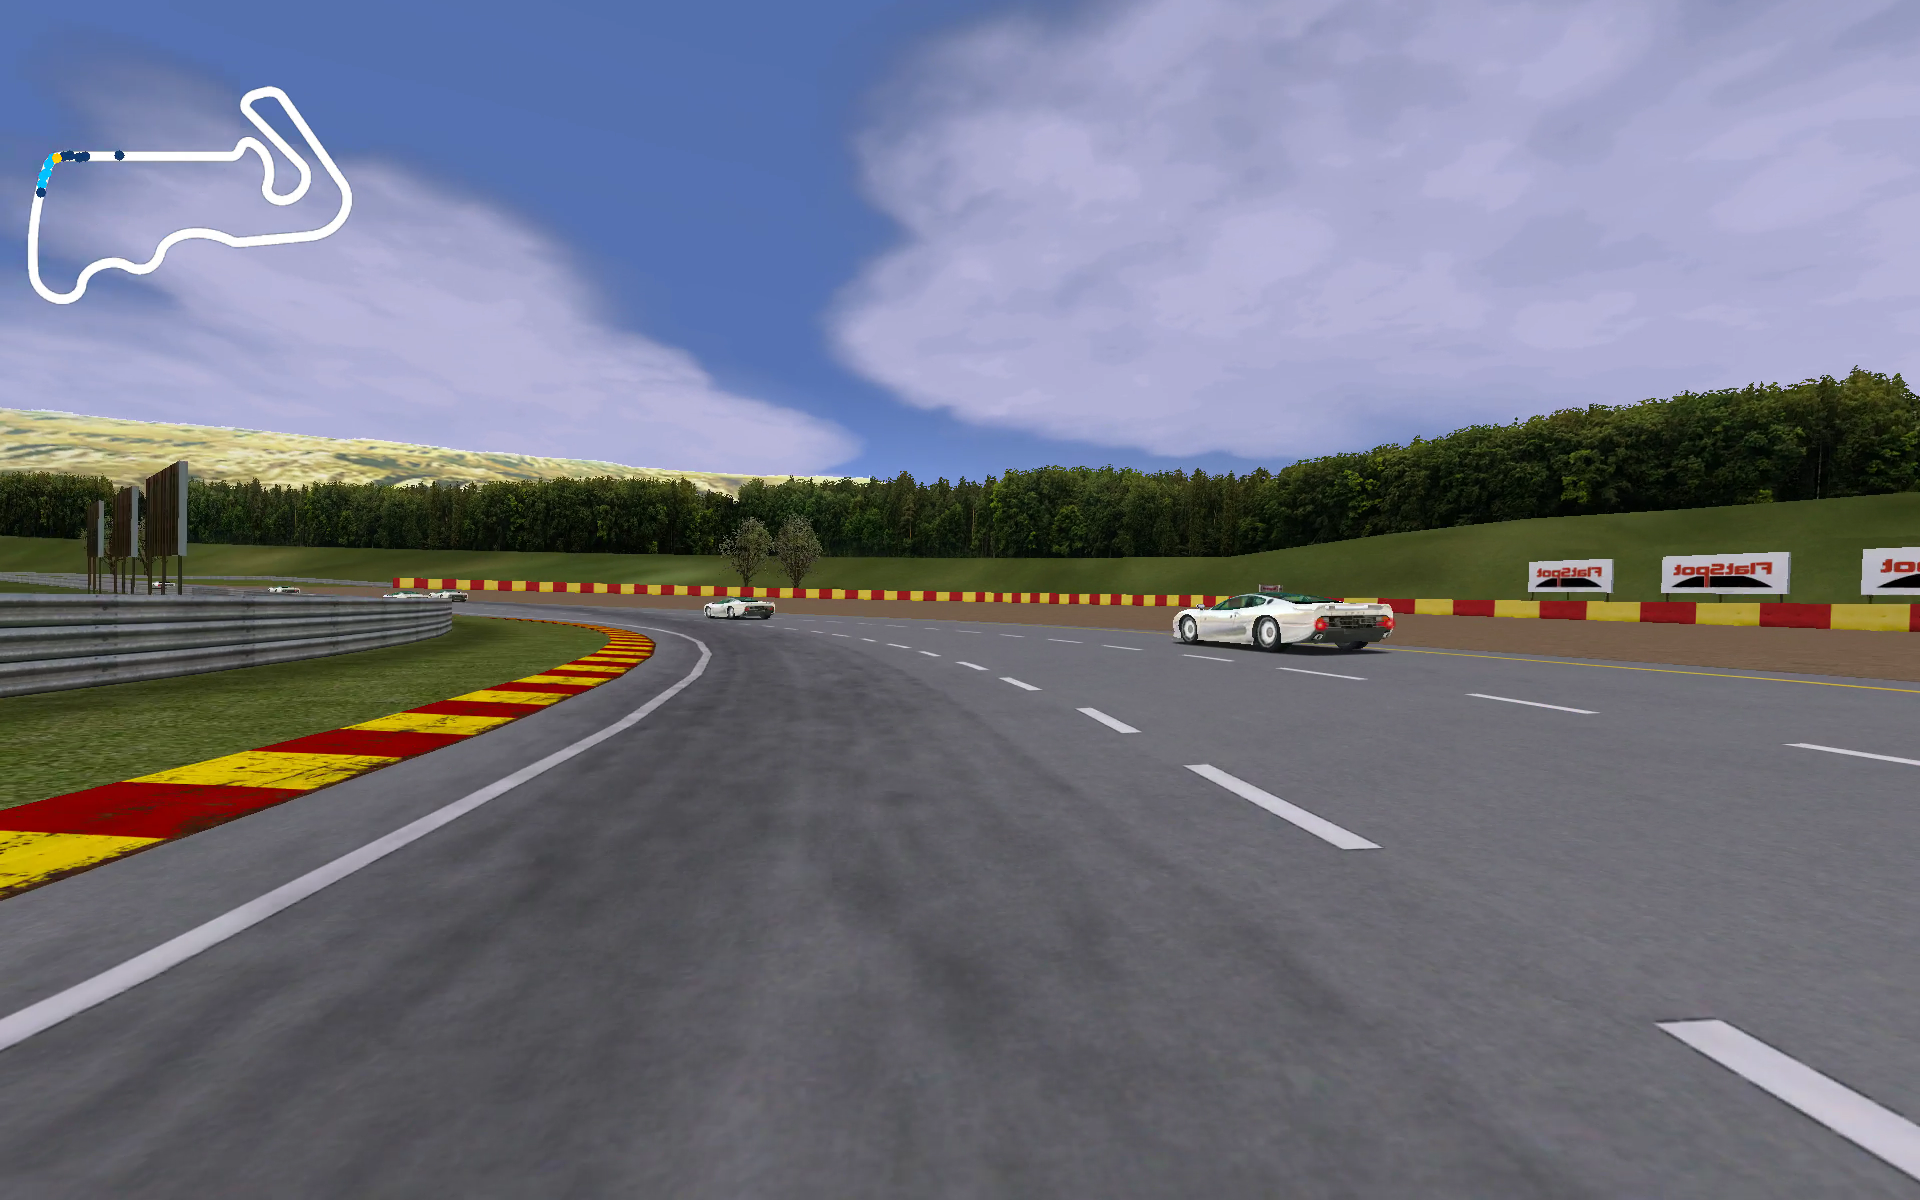car: (1169, 590, 1400, 653), (701, 594, 778, 622)
